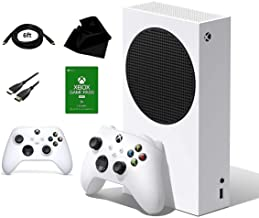gamingconsole: (82, 126, 165, 213), (4, 125, 72, 176)
